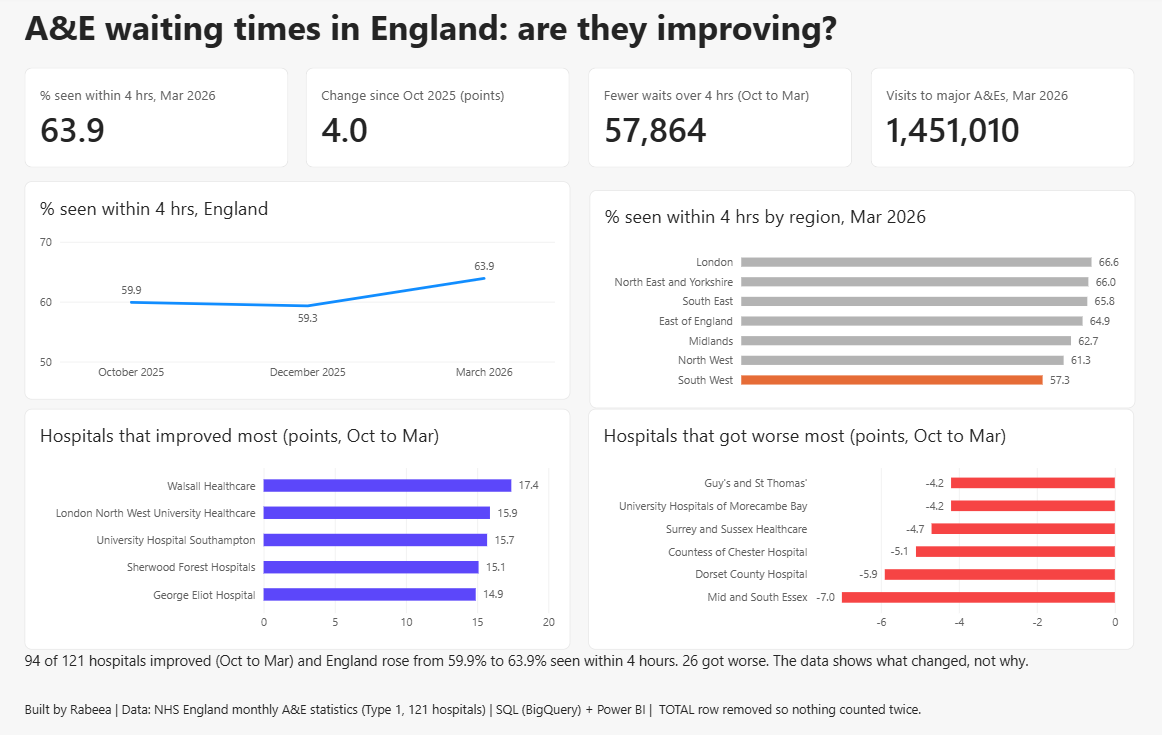

This screenshot's page, from the dashboard's own definition file:
{"tool":"powerbi","page":{"name":"Page 1","canvas":[1280,820],"ordinal":0},"visuals":[{"type":"lineChart","title":"% seen within 4 hrs, England","fields":{"Category":["trend.month"],"Y":["Avg(trend.pct_within_4hrs)"]},"box":[30.9,205,600,240],"z":0},{"type":"clusteredBarChart","title":"% seen within 4 hrs by region, Mar 2026","fields":{"Category":["region.region"],"Y":["Avg(region.pct_within_4hrs)"]},"box":[651.3,214.3,600,240],"z":1000},{"type":"cardVisual","fields":{"Data":["Avg(trend.pct_within_4hrs)"]},"box":[30,80,290,110],"z":2000},{"type":"cardVisual","fields":{"Data":["change_oct_to_mar.change since oct"]},"box":[340,80,290,110],"z":3000},{"type":"cardVisual","fields":{"Data":["change_oct_to_mar.fewer long waits"]},"box":[650,80,290,110],"z":4000},{"type":"cardVisual","fields":{"Data":["Sum(trend.attendances)"]},"box":[960,80,290,110],"z":5000},{"type":"clusteredBarChart","title":"Hospitals that improved most (points, Oct to Mar)","fields":{"Category":["change_oct_to_mar.hospital"],"Y":["Sum(change_oct_to_mar.change_points)"]},"box":[30.8,455,600,265],"z":6000},{"type":"clusteredBarChart","title":"Hospitals that got worse most (points, Oct to Mar)","fields":{"Category":["change_oct_to_mar.hospital"],"Y":["Sum(change_oct_to_mar.change_points)"]},"box":[650,455,600,265],"z":7000},{"type":"textbox","box":[30.8,10,1220,55],"z":8000},{"type":"textbox","box":[30.2,775,1220.1,36],"z":9000},{"type":"textbox","box":[30.8,720,1220,50],"z":10000}]}

Visuals, with their boxes in screenshot pixels (x1, y1, x2, y2), scaled from the page's 1280x820 canvas onto the 1162x735 screenshot:
"% seen within 4 hrs, England" lineChart: x1=28, y1=184, x2=573, y2=399
"% seen within 4 hrs by region, Mar 2026" clusteredBarChart: x1=591, y1=192, x2=1136, y2=407
cardVisual - Avg(trend.pct_within_4hrs): x1=27, y1=72, x2=290, y2=170
cardVisual - change_oct_to_mar.change since oct: x1=309, y1=72, x2=572, y2=170
cardVisual - change_oct_to_mar.fewer long waits: x1=590, y1=72, x2=853, y2=170
cardVisual - Sum(trend.attendances): x1=872, y1=72, x2=1135, y2=170
"Hospitals that improved most (points, Oct to Mar)" clusteredBarChart: x1=28, y1=408, x2=573, y2=645
"Hospitals that got worse most (points, Oct to Mar)" clusteredBarChart: x1=590, y1=408, x2=1135, y2=645
textbox: x1=28, y1=9, x2=1135, y2=58
textbox: x1=27, y1=695, x2=1135, y2=727
textbox: x1=28, y1=645, x2=1135, y2=690
